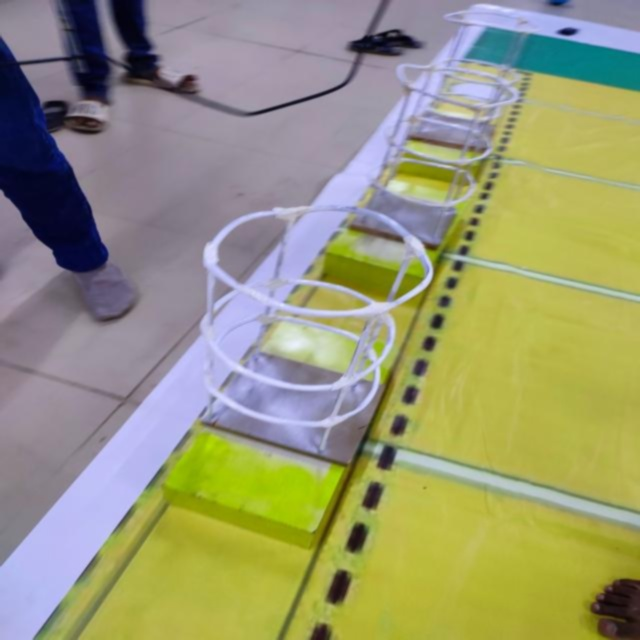silo: (212, 201, 432, 475), (364, 53, 496, 250), (429, 7, 549, 144)
